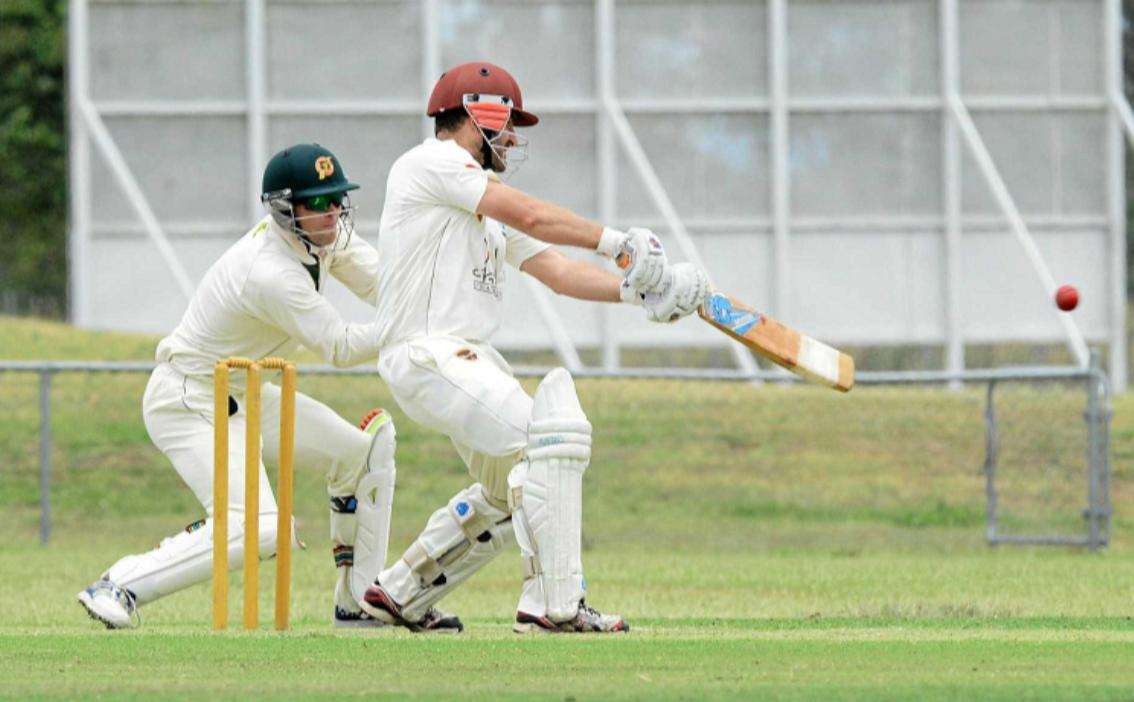batsman: (357, 67, 862, 636)
